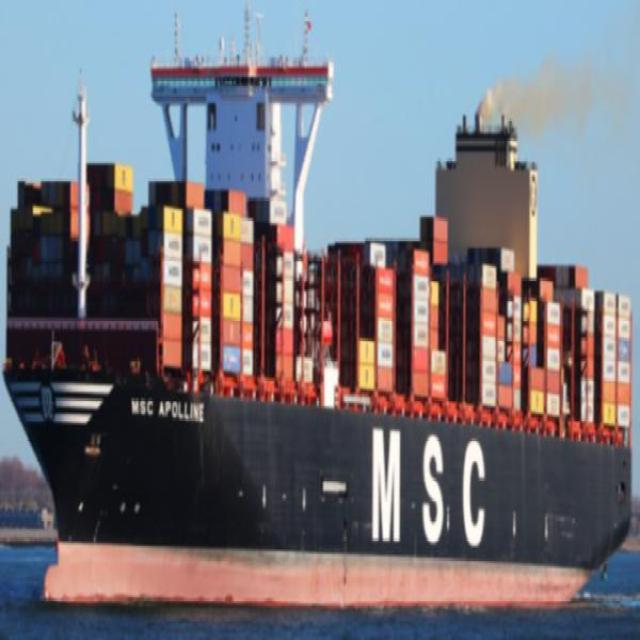Container Ship: (3, 0, 631, 610)
